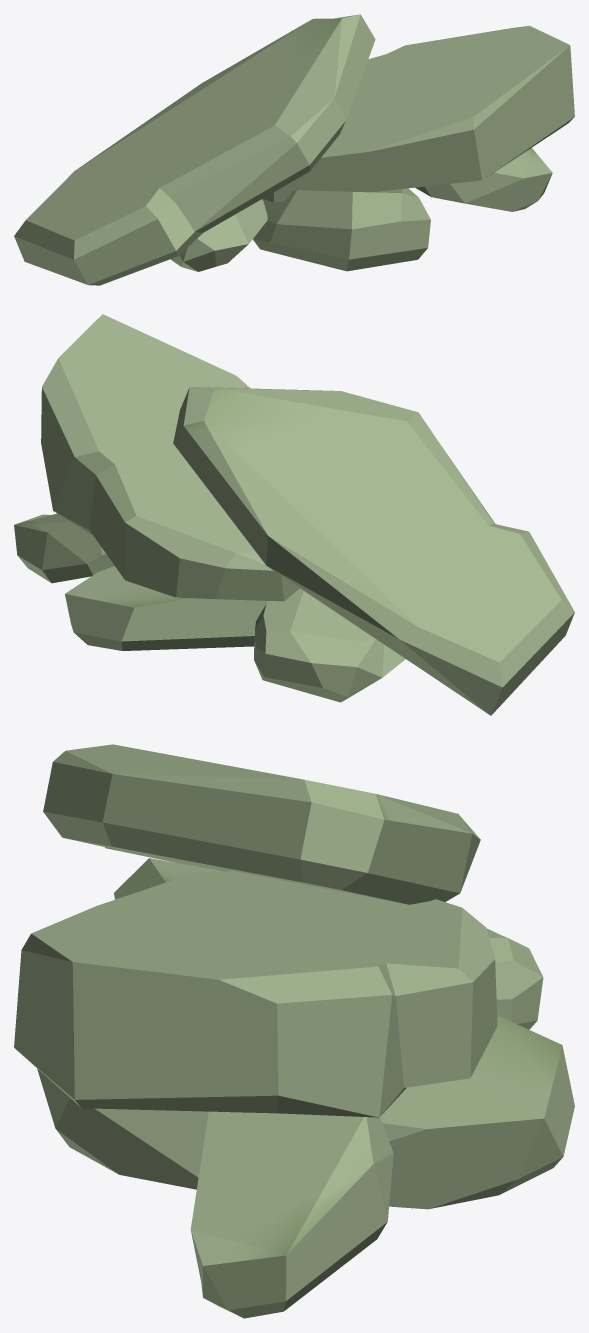
Rendered from EA_Swamp_RockBig_02b.glb.
3 renders of one model, top to bottom at view 1: azimuth 30°, elevation 25°; view 2: azimuth 150°, elevation 25°; view 3: azimuth 270°, elevation 25°, orthographic. The views are drawn at different scales.
Parts seen in each view (by area): view 1: EA_Swamp_RockBig_02b; view 2: EA_Swamp_RockBig_02b; view 3: EA_Swamp_RockBig_02b.
Part boxes in pixels (box(x1,y1,x2,y2)): EA_Swamp_RockBig_02b: box(14, 14, 574, 285); EA_Swamp_RockBig_02b: box(14, 314, 574, 715); EA_Swamp_RockBig_02b: box(14, 744, 574, 1318).
Bounding box in the file's own units: 10.22 × 4.31 × 5.68.
1 material, 1 textured.
